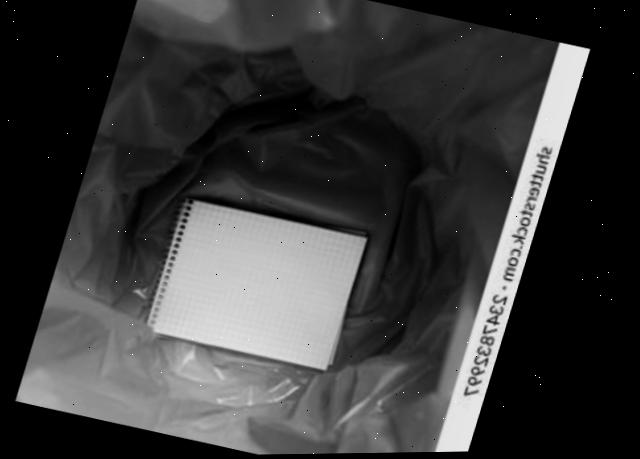Paper: (153, 198, 371, 370)
top_view_waste: (23, 0, 556, 456)
